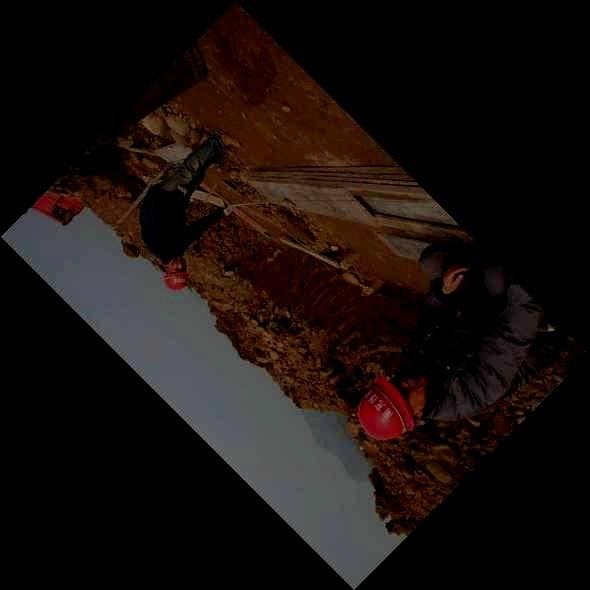helmet: (355, 368, 427, 441), (161, 255, 191, 293)
